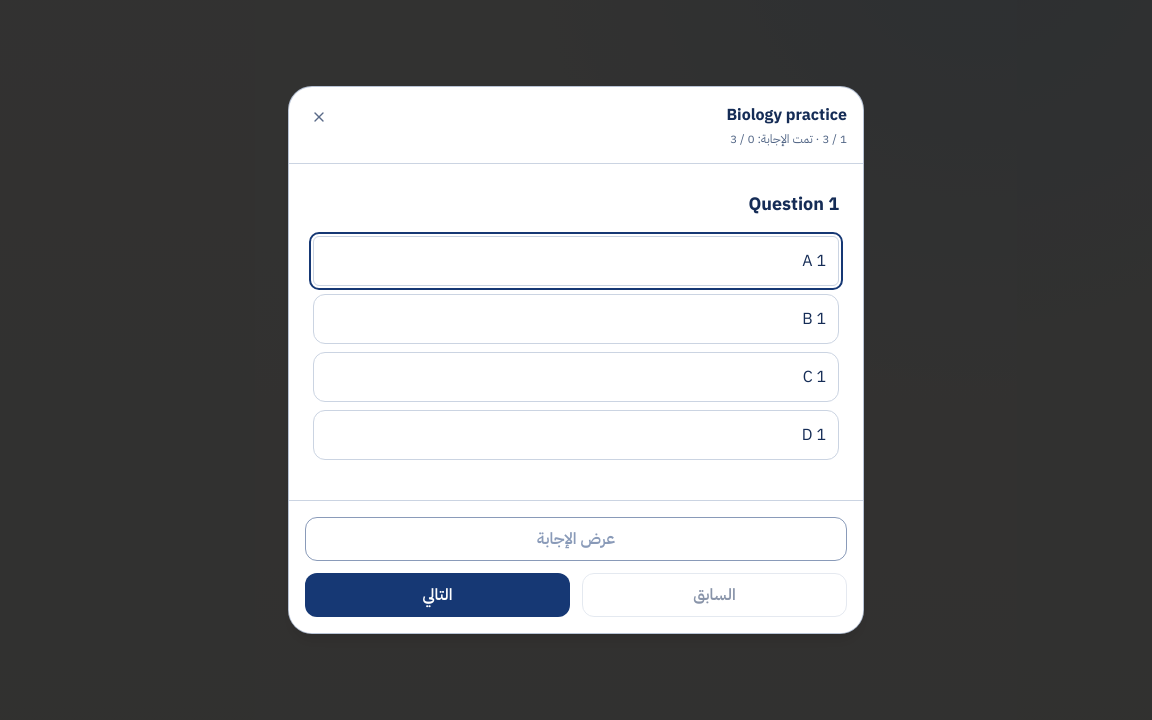
Test: teacher MCQ navigation › allows ar students to move both ways without answering first
Expected: the button "السابق" is disabled, [582, 573, 847, 617]
Step 1. Click the button "التالي" → (438, 595), box [305, 573, 570, 617]
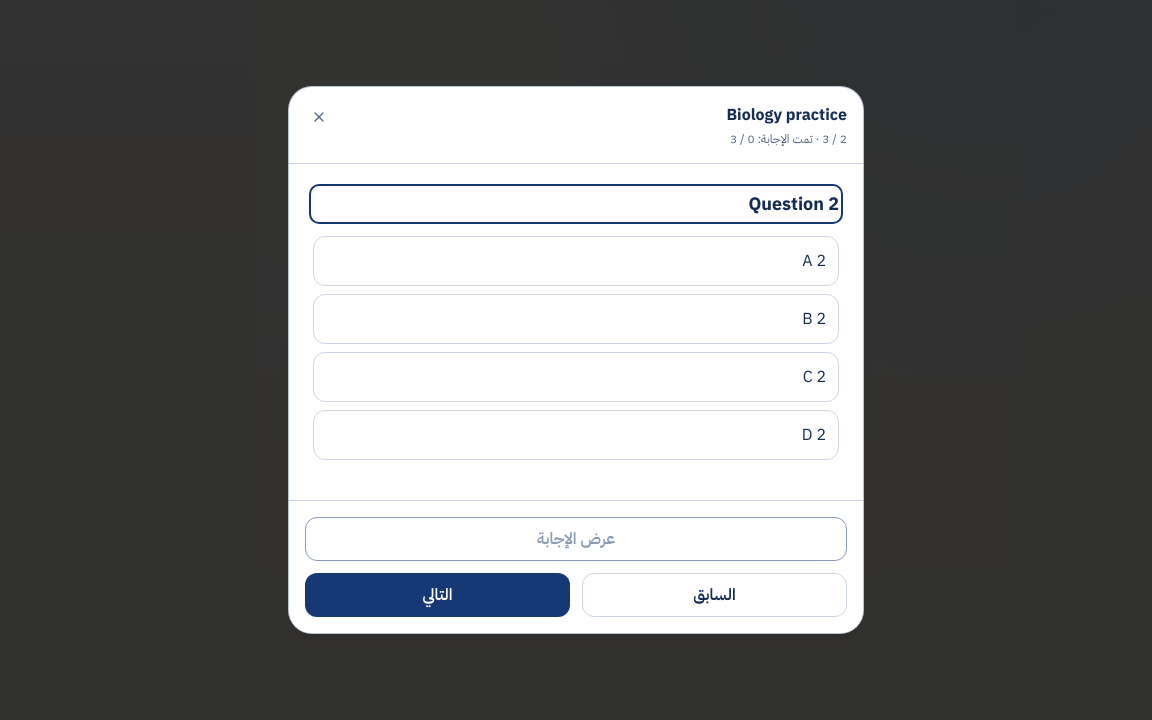
Now the heading "Question 2" is shown, box [748, 190, 839, 217]
Step 2. Click the button "السابق" → (714, 595), box [582, 573, 847, 617]
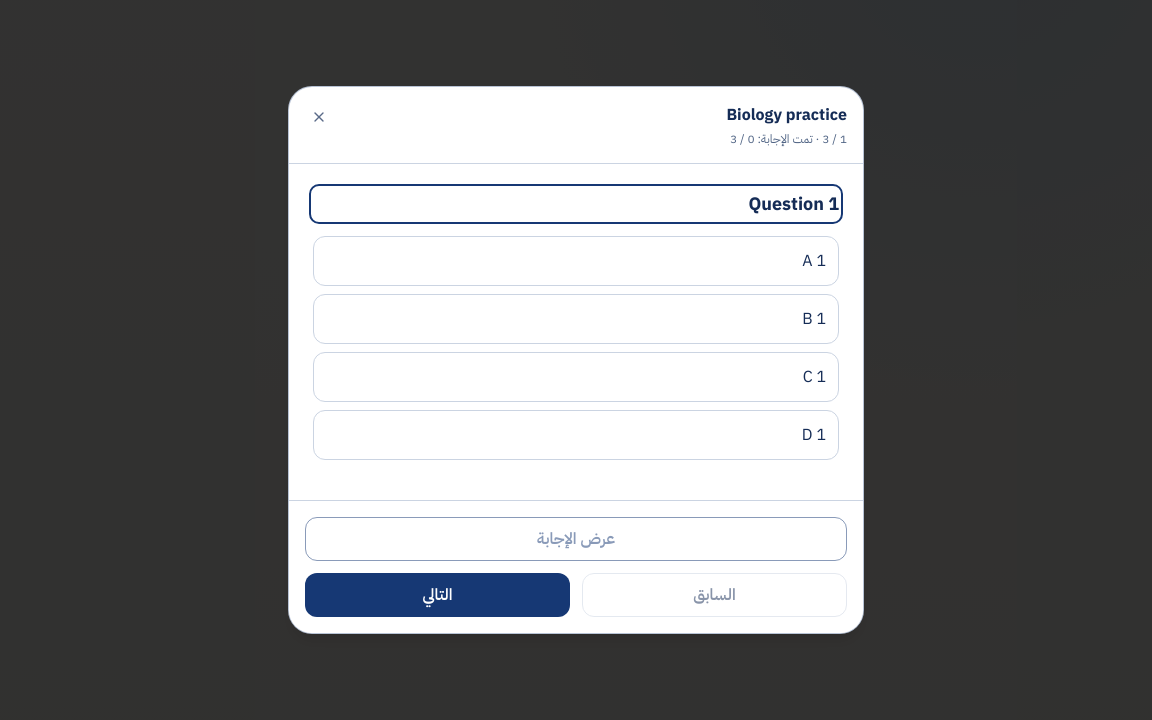
Now the heading "Question 1" is shown, box [748, 190, 839, 217]
Step 3. Click the button "التالي" → (438, 595), box [305, 573, 570, 617]
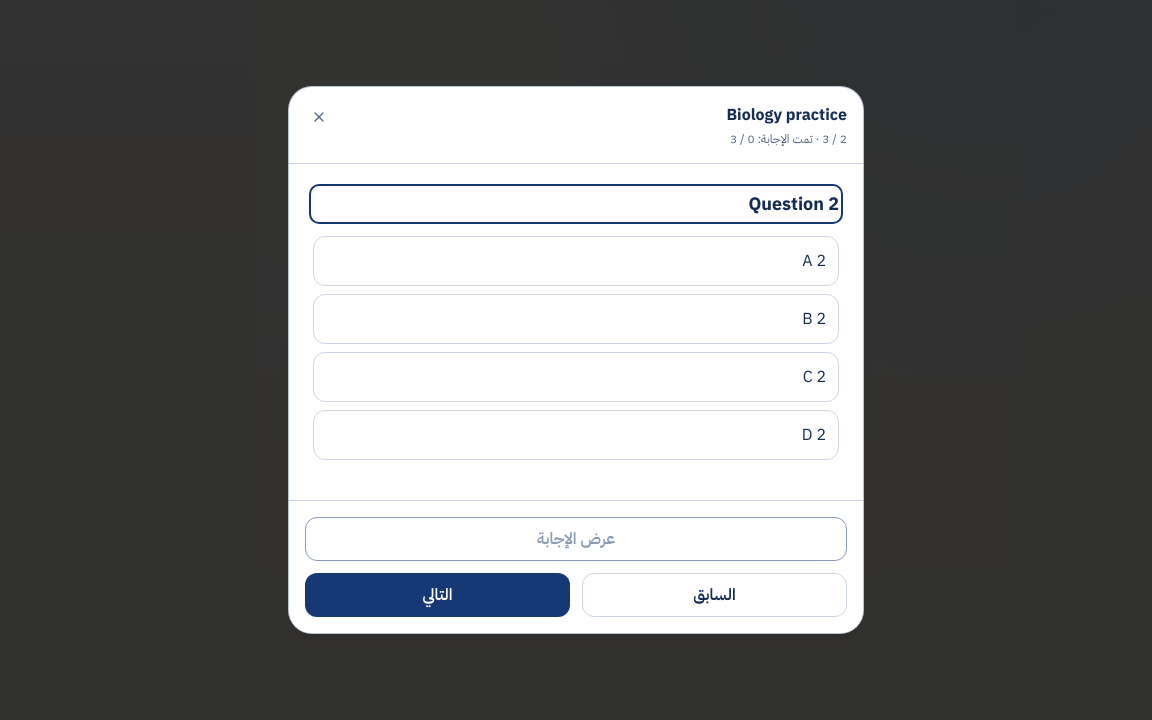
Step 4. Click the button "التالي" → (438, 595), box [305, 573, 570, 617]
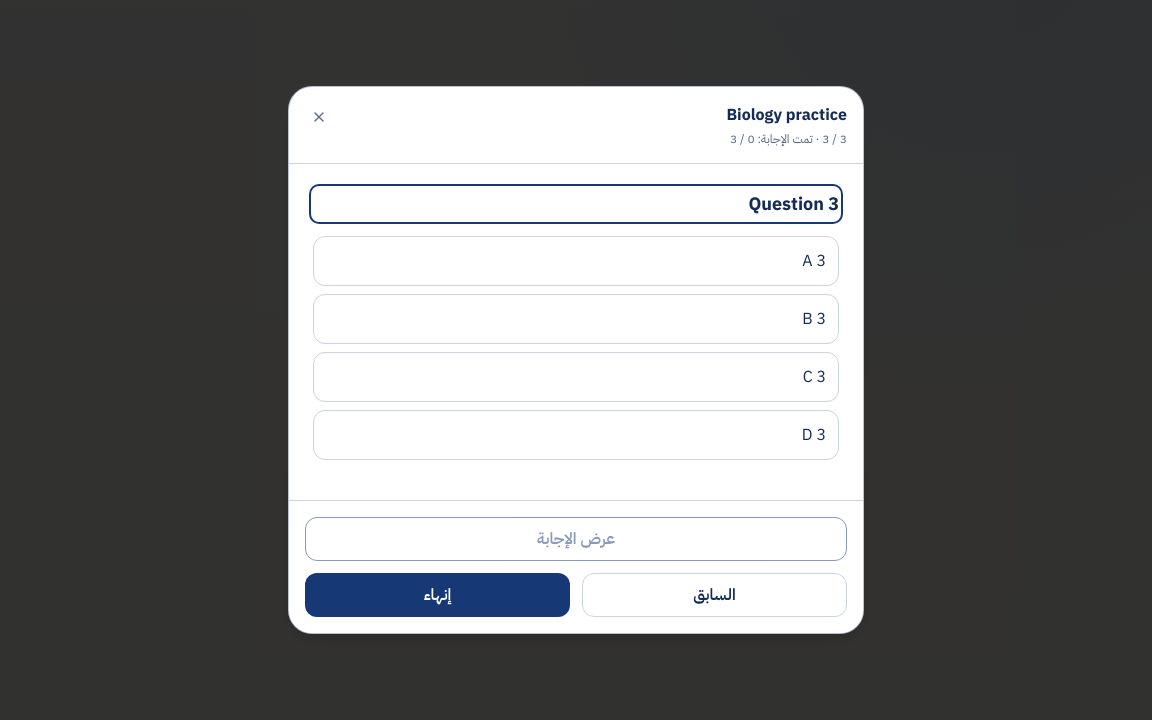
Now the heading "Question 3" is shown, box [748, 190, 839, 217]
